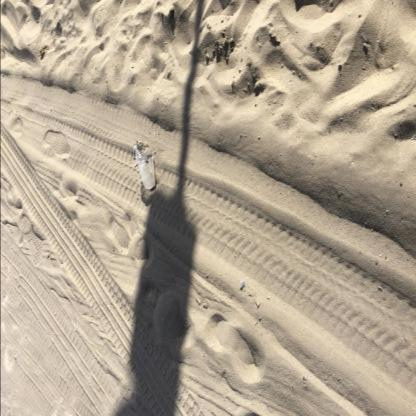Cigarette: (196, 297, 201, 305)
Cup: (136, 152, 156, 189)
Unlabeled litter: (134, 141, 144, 168)
